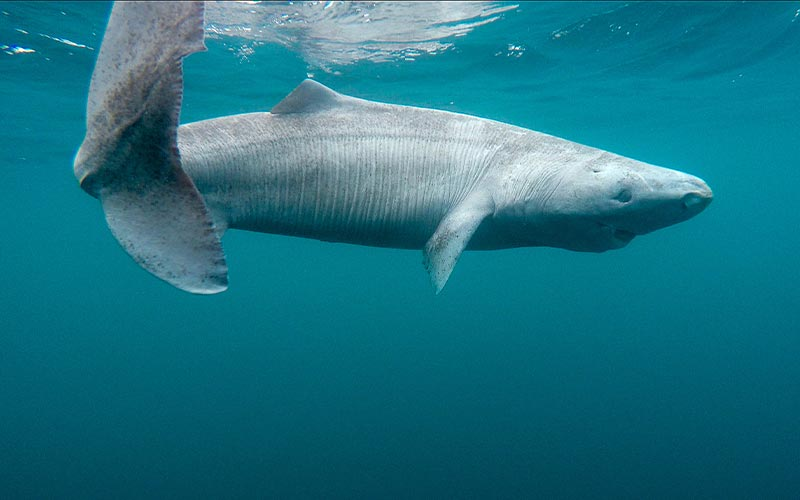shark: (46, 1, 718, 302)
